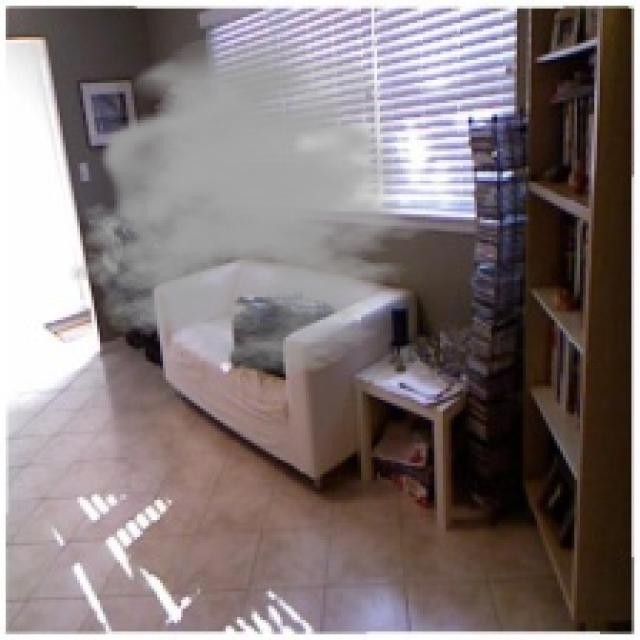smoke: (68, 34, 446, 377)
